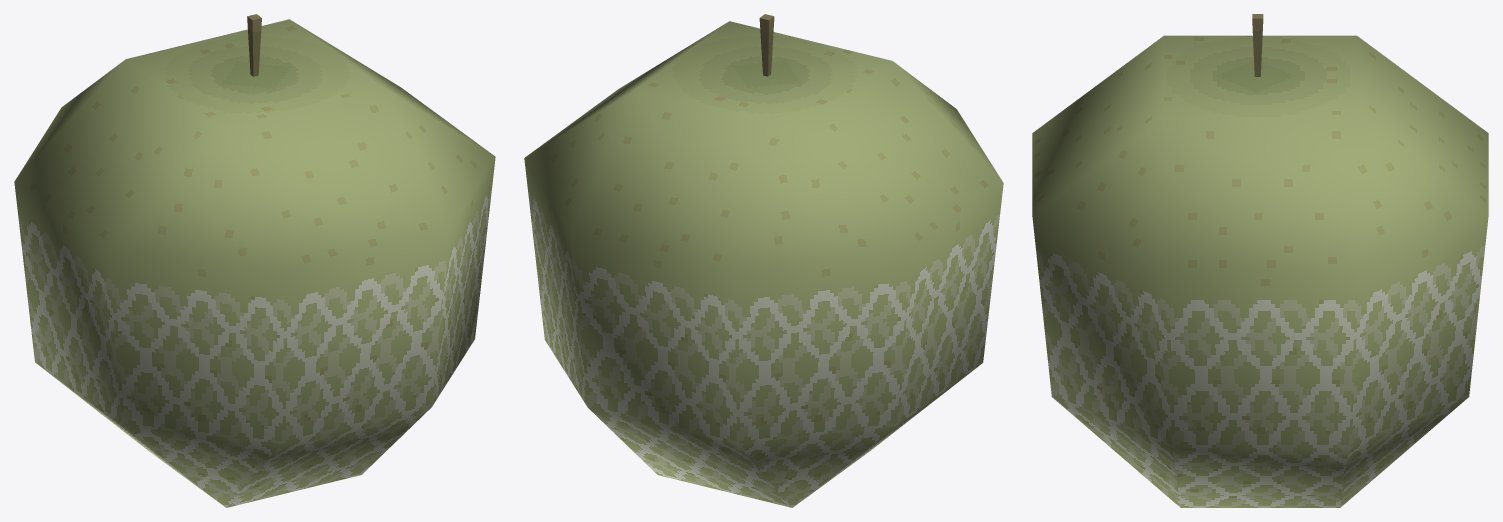
Rendered from 03de_Big_Pear.glb.
3 views of the same model, side by side, from view 1: azimuth 30°, elevation 25°; view 2: azimuth 150°, elevation 25°; view 3: azimuth 270°, elevation 25° (orthographic). The views are drawn at different scales.
Parts seen in each view (by area): view 1: part_0; view 2: part_0; view 3: part_0.
Boxes of the visible parts, left/top/right/bottom form: part_0: left=14, top=14, right=495, bottom=507; part_0: left=524, top=14, right=1003, bottom=507; part_0: left=1032, top=14, right=1488, bottom=507.
Bounding box in the file's own units: 0.1507 × 0.1665 × 0.1507.
1 material, 1 textured.
